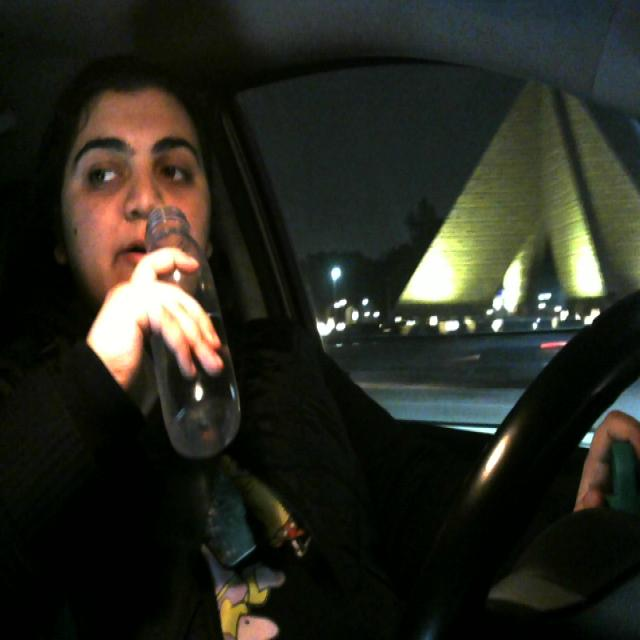drinking: (139, 206, 250, 466)
